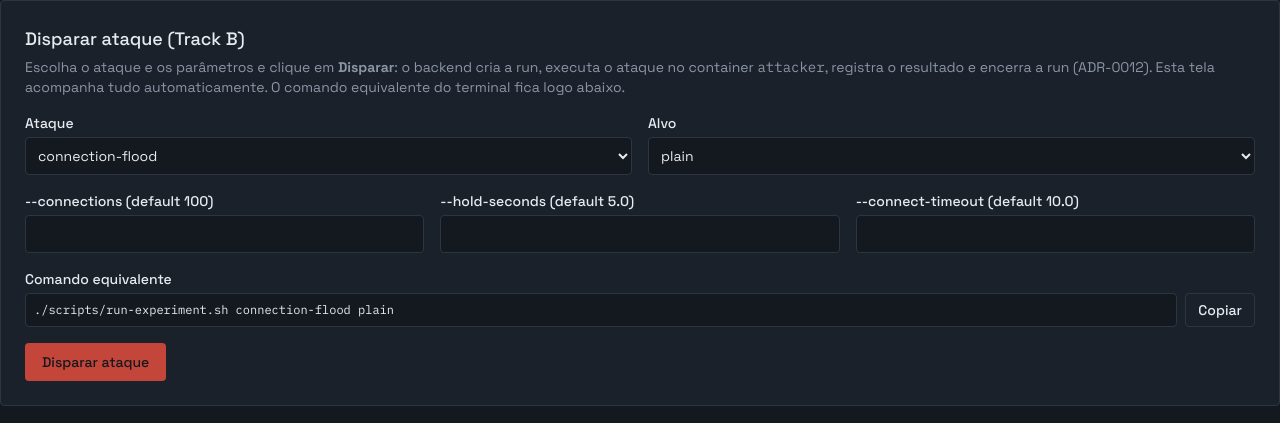
Scenario: AttackForm › updates the command when a flag is filled in
Type "250" into the number field labelled "--connections (default 100)". click: (225, 234)
box: [25, 215, 424, 253]
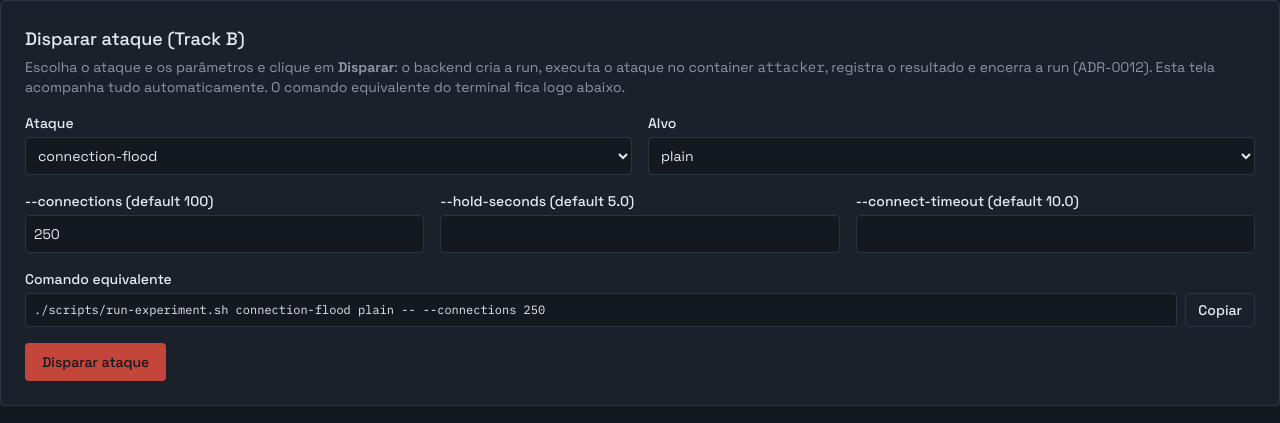
Expected: the field showing "./scripts/run-experiment.sh connection-flood plain -- --connections 250" is shown, [25, 293, 1177, 327]
